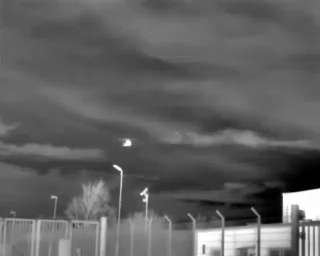HELICOPTER: (118, 133, 139, 151)
